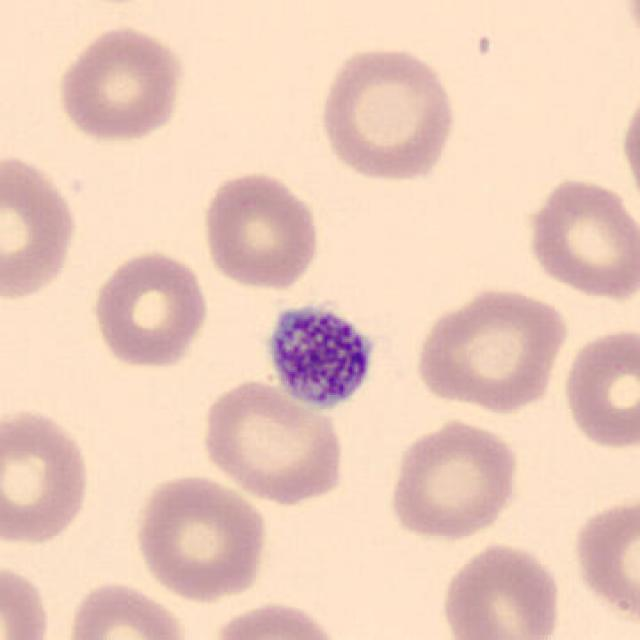Lymphocyte: (258, 295, 380, 416)
Platelets: (260, 295, 380, 416)
RBC: (410, 282, 570, 416), (314, 41, 460, 185), (196, 376, 350, 508), (130, 469, 272, 605), (384, 414, 523, 543), (52, 21, 188, 146), (87, 245, 212, 372), (198, 167, 324, 291), (521, 173, 638, 303), (0, 402, 94, 550), (437, 537, 565, 640), (0, 148, 82, 303), (558, 325, 638, 453), (567, 492, 640, 631), (64, 576, 192, 640), (208, 597, 346, 640), (0, 557, 53, 640), (617, 81, 640, 215), (615, 0, 640, 58)
